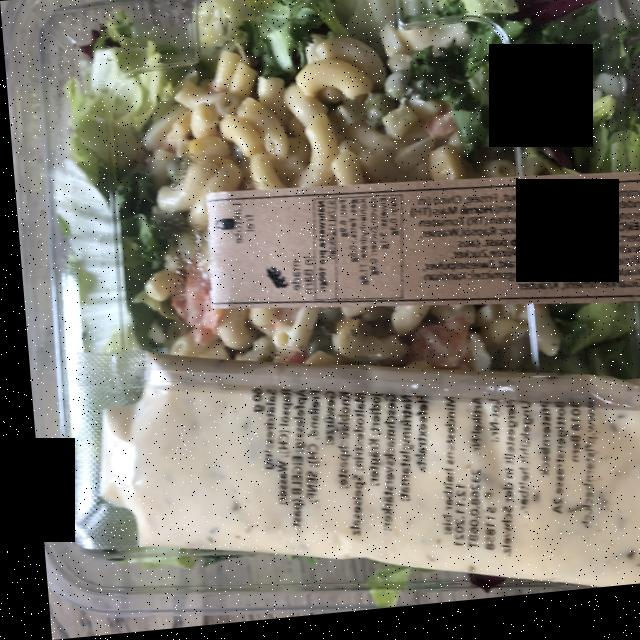mixed-salad-chopped-without-sauce: (58, 0, 640, 384)
pasta-hornli: (137, 45, 545, 372)
